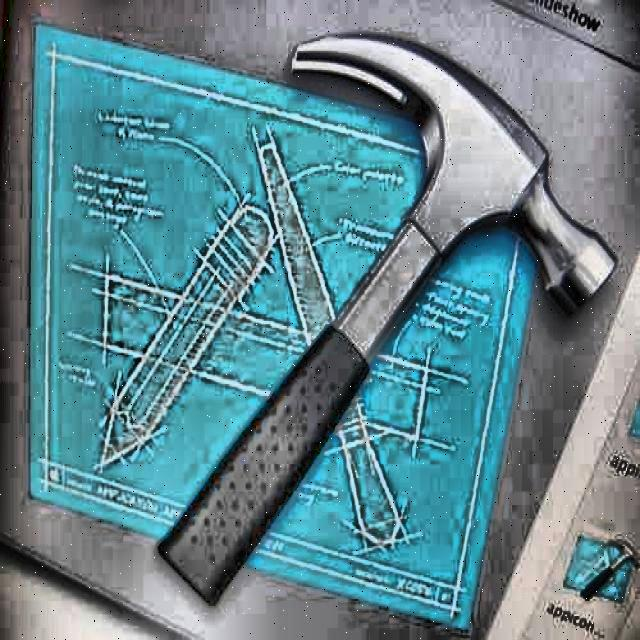hammer: (153, 32, 621, 610)
